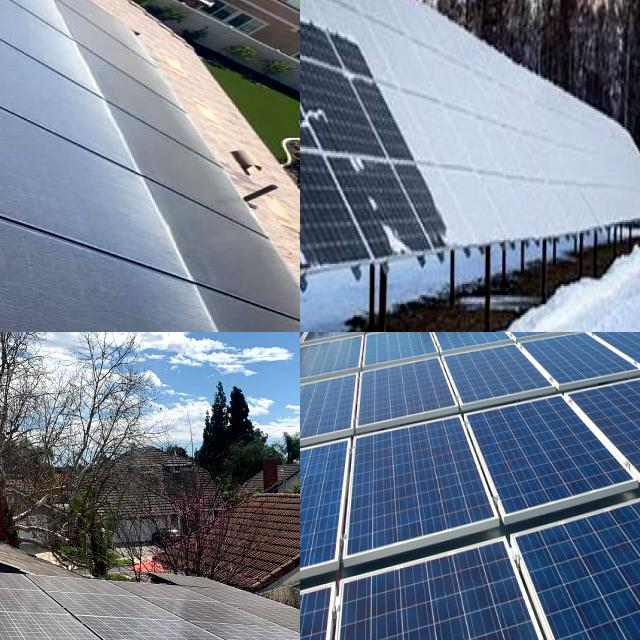crack: (438, 374, 636, 538), (324, 525, 585, 640), (348, 396, 501, 584), (338, 426, 515, 567), (478, 497, 640, 640), (342, 358, 492, 446)
dust: (0, 72, 73, 126), (253, 32, 300, 108), (163, 76, 230, 122)
panel: (366, 0, 488, 169), (501, 87, 588, 213), (338, 144, 409, 270), (300, 0, 367, 86), (586, 115, 640, 219), (436, 185, 489, 250), (300, 79, 351, 130), (300, 0, 353, 41), (300, 223, 327, 273)
